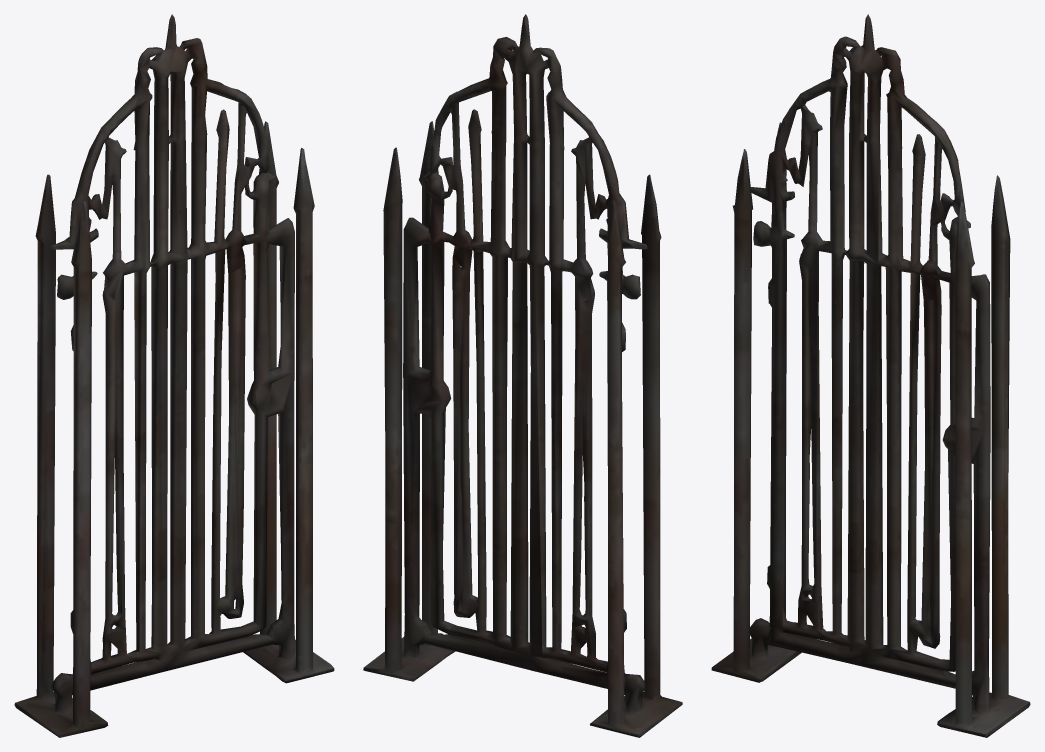
The model's file is simple-iron-iron-gate-v002.glb.
The picture shows the model from 3 angles, left to right: view 1: azimuth 30°, elevation 25°; view 2: azimuth 150°, elevation 25°; view 3: azimuth 330°, elevation 25°; orthographic projection.
Visible parts, largest first — view 1: simple-iron-iron-gate; view 2: simple-iron-iron-gate; view 3: simple-iron-iron-gate.
Part boxes in pixels (left/top/right/bottom): simple-iron-iron-gate: left=14, top=14, right=334, bottom=737; simple-iron-iron-gate: left=363, top=14, right=682, bottom=737; simple-iron-iron-gate: left=711, top=14, right=1030, bottom=737.
Bounding box in the file's own units: 1.26 × 2.94 × 0.3547.
Materials: 1 (1 with a texture image).
